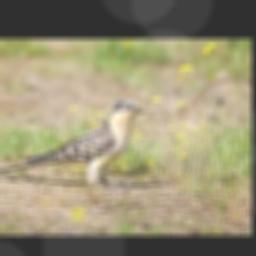Cuckoo: (0, 98, 147, 187)
